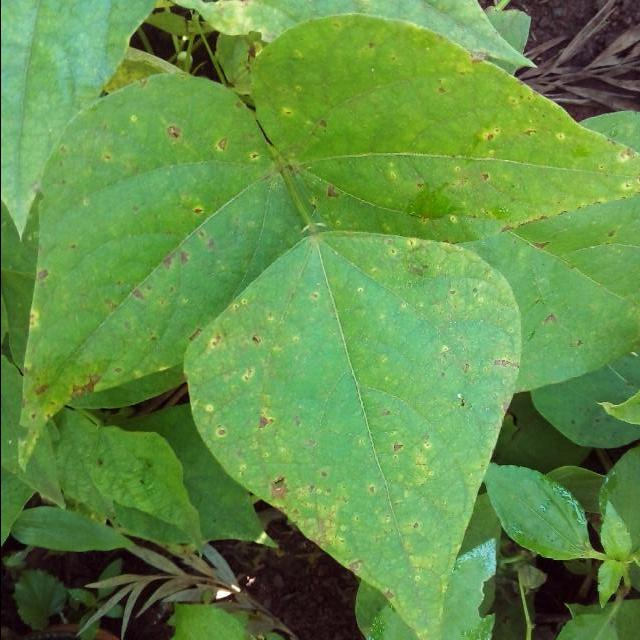hawar: (102, 63, 640, 640)
